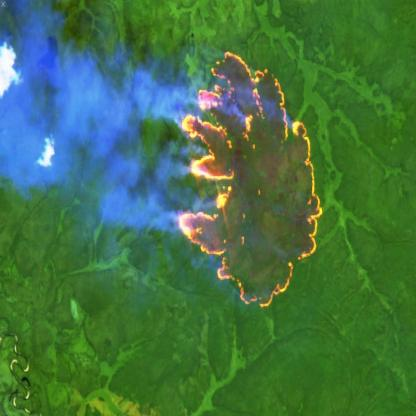fire: (176, 44, 326, 318)
